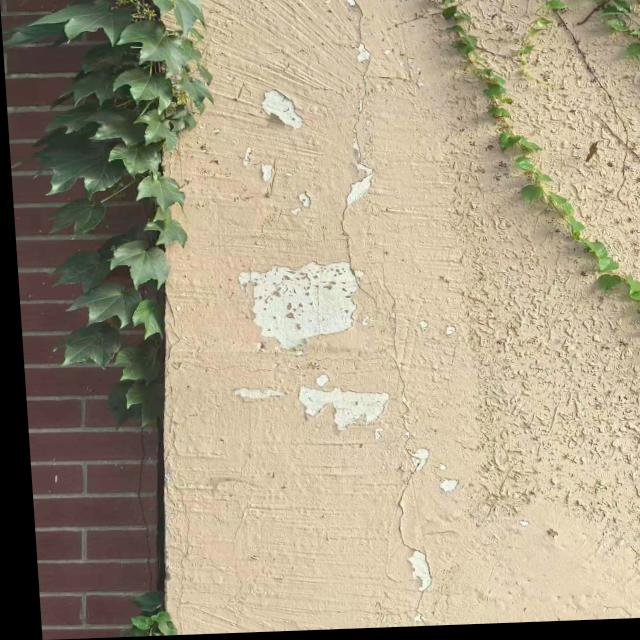crack: (337, 206, 429, 552), (339, 0, 381, 159)
spalling: (234, 257, 372, 356), (232, 371, 395, 436), (232, 141, 326, 224), (256, 85, 311, 133), (340, 160, 382, 209), (406, 547, 436, 594)
